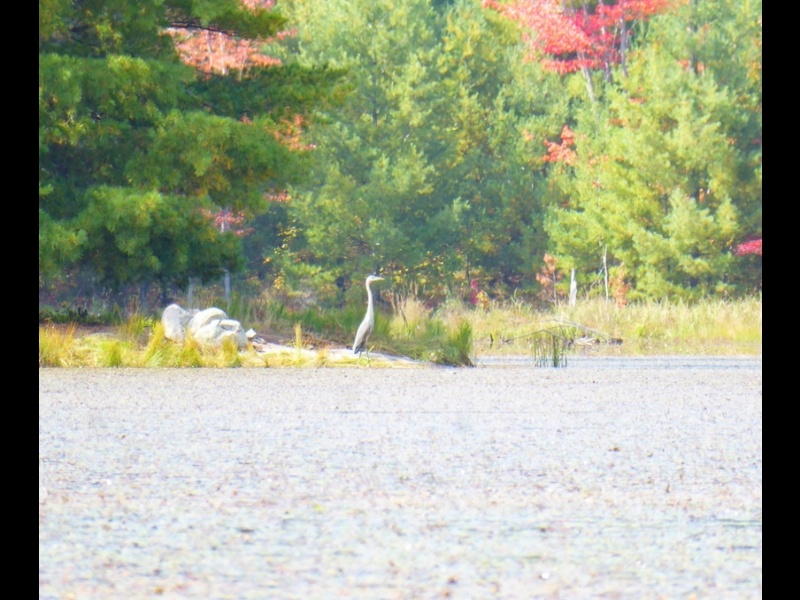heron: (348, 272, 385, 358)
